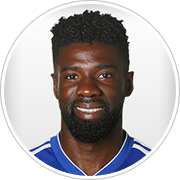smile: (70, 102, 109, 119)
